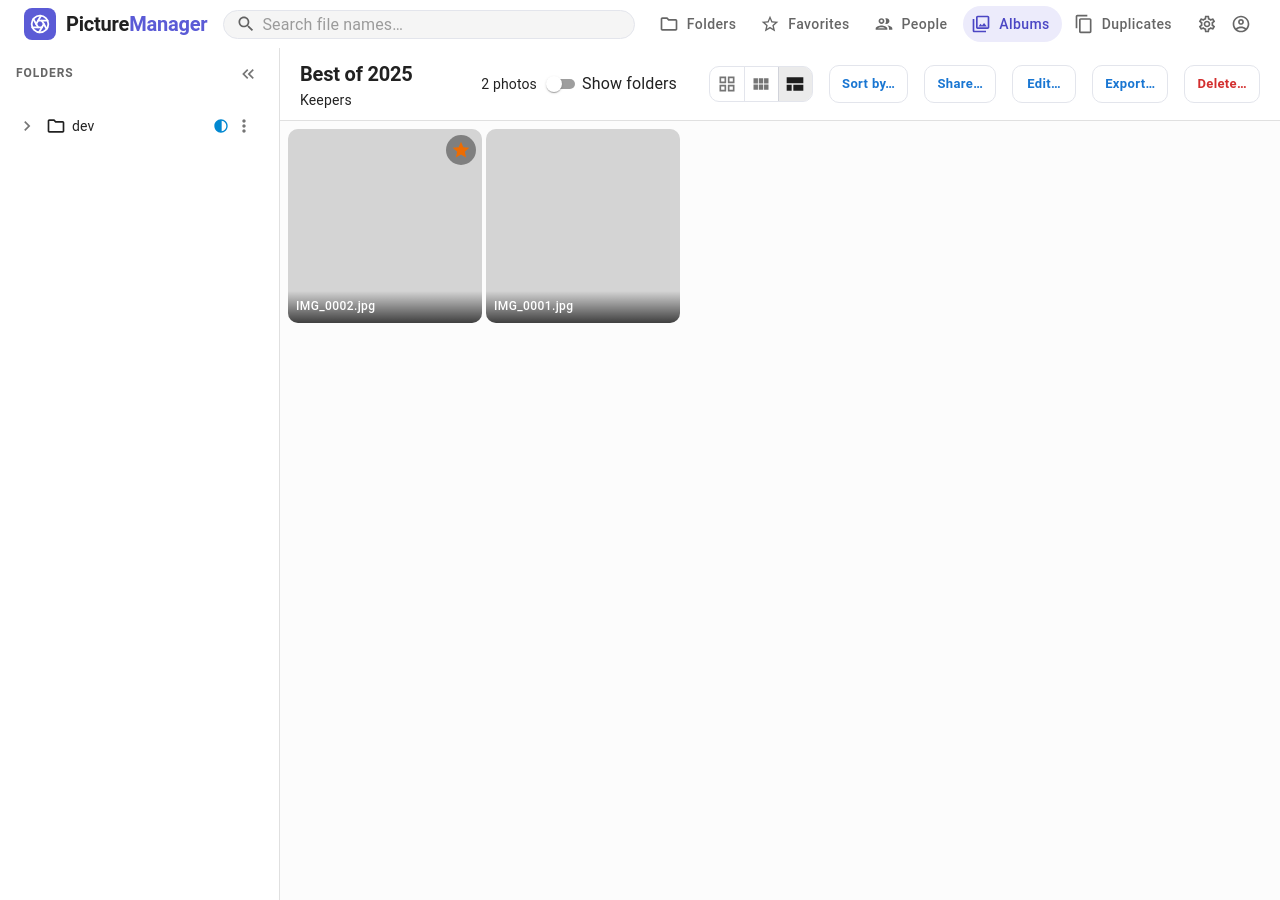
Test: AlbumView › Show folders adds folder paths and is remembered
This screenshot has width=1280, height=900.
Expected: the text "dev/Holidays/Madeira" is not shown
Click the switch labelled "Show folders" at x=610, y=84, box top-left (542, 72), bottom-right (677, 96)
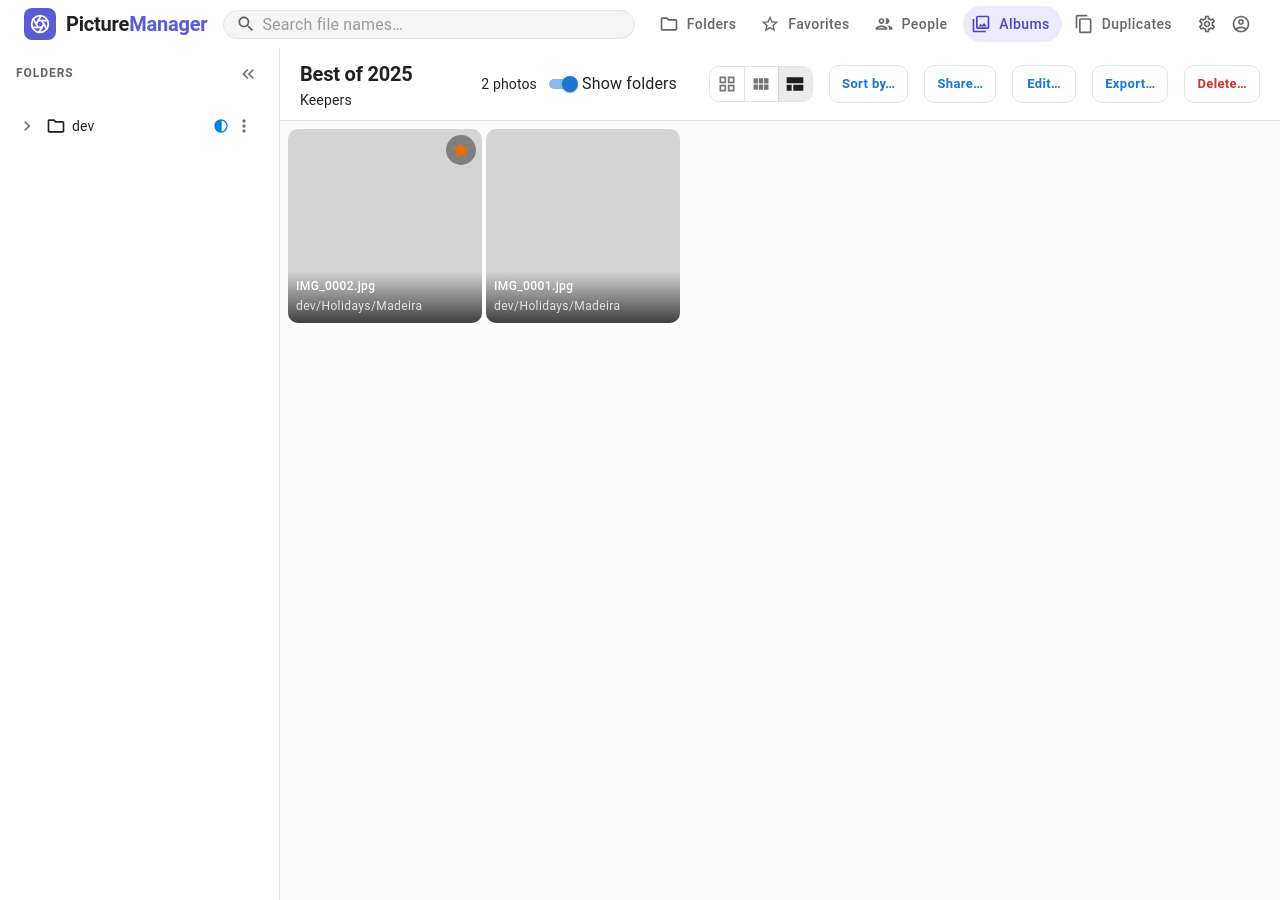
Now the text "dev/Holidays/Madeira" is shown 2 times, box top-left (296, 299), bottom-right (422, 313); top-left (494, 299), bottom-right (620, 313)
